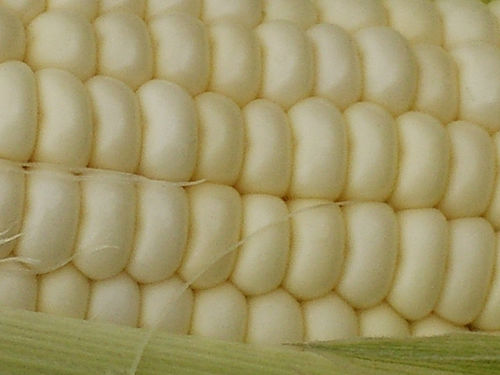corn: (0, 1, 499, 344)
